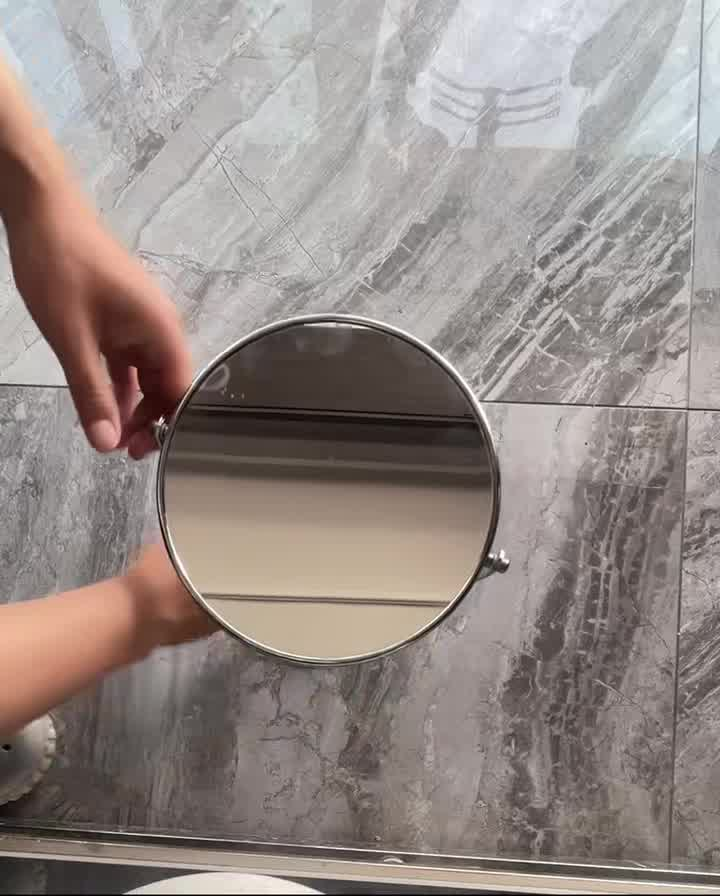mirror: (145, 303, 527, 671)
screw: (140, 412, 172, 437), (486, 545, 506, 579)
